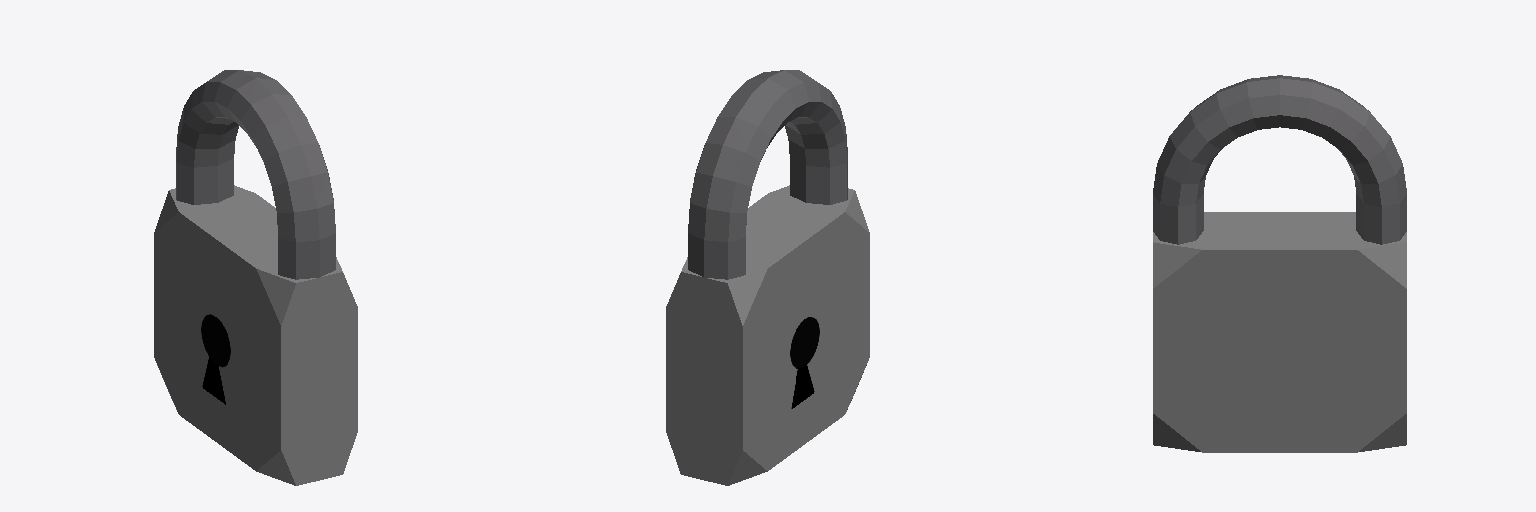
3 views of the same model, side by side, from view 1: azimuth 30°, elevation 25°; view 2: azimuth 150°, elevation 25°; view 3: azimuth 270°, elevation 25° (orthographic).
Parts seen in each view (by area): view 1: Handle1, Lock1; view 2: Handle1, Lock1; view 3: Handle1, Lock1.
Boxes of the visible parts, <box> form: Handle1: <box>154,185,357,485</box>; Lock1: <box>176,70,335,279</box>; Handle1: <box>666,185,869,485</box>; Lock1: <box>688,70,847,279</box>; Handle1: <box>1153,212,1406,452</box>; Lock1: <box>1153,75,1406,244</box>.
Size of the model in its own units: 0.1743 by 0.7703 by 0.5.
2 materials, 1 textured.